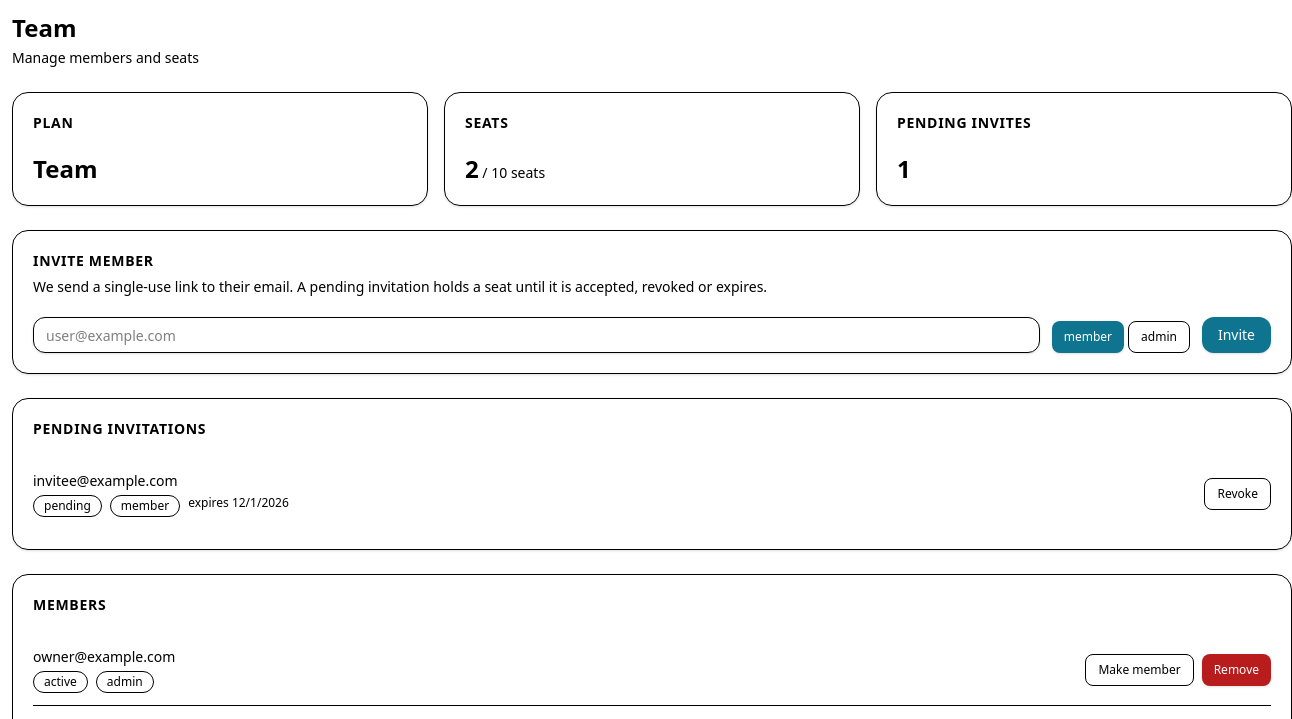
Test case: TeamPage › explains a full plan instead of a generic failure
Type "a@example.com" into the field named "Email address" at (536, 335), box [33, 317, 1040, 353]
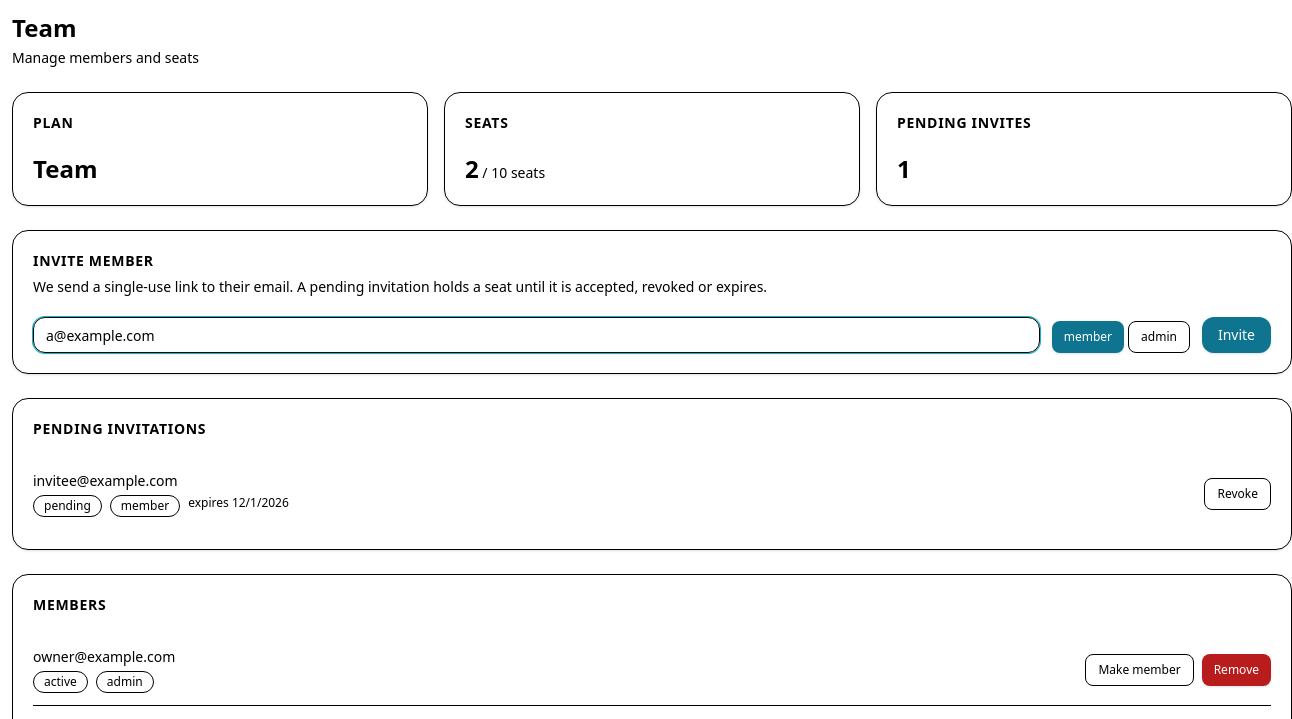
Click the button "Invite" at (1236, 335), box [1202, 317, 1271, 353]
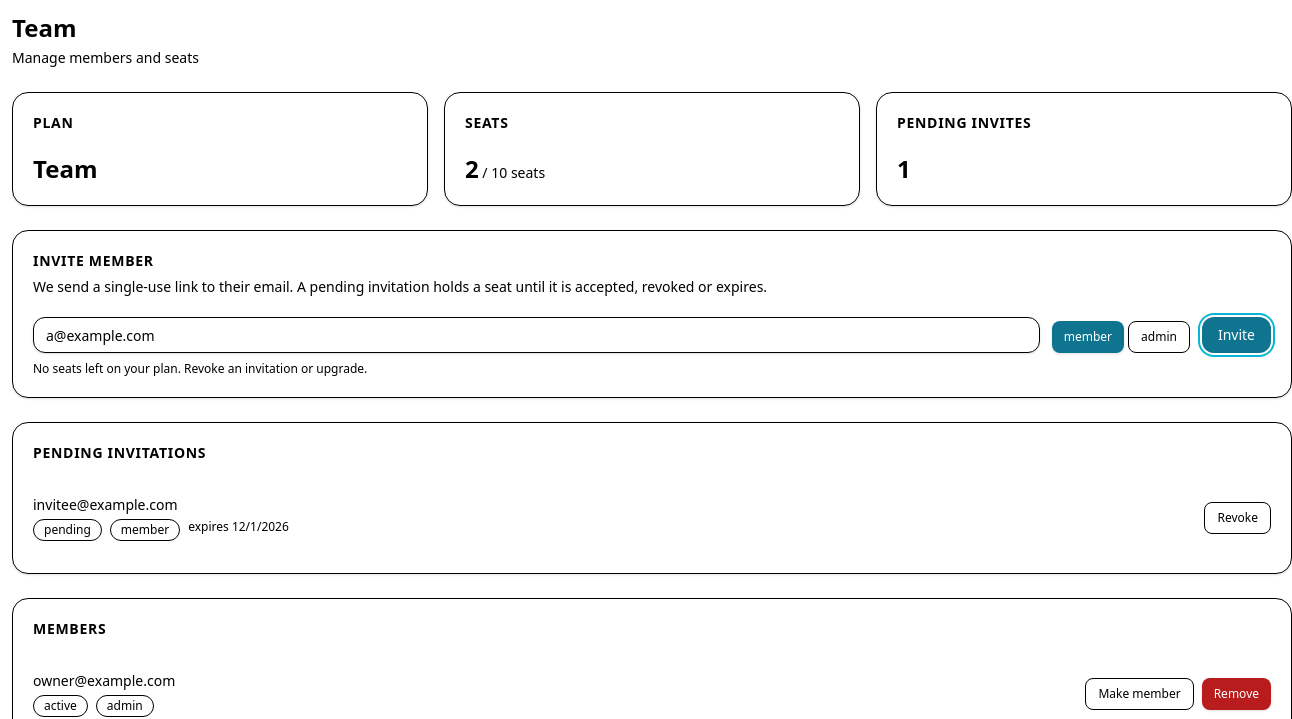
Check: the message shows "No seats left", box [33, 360, 367, 377]
